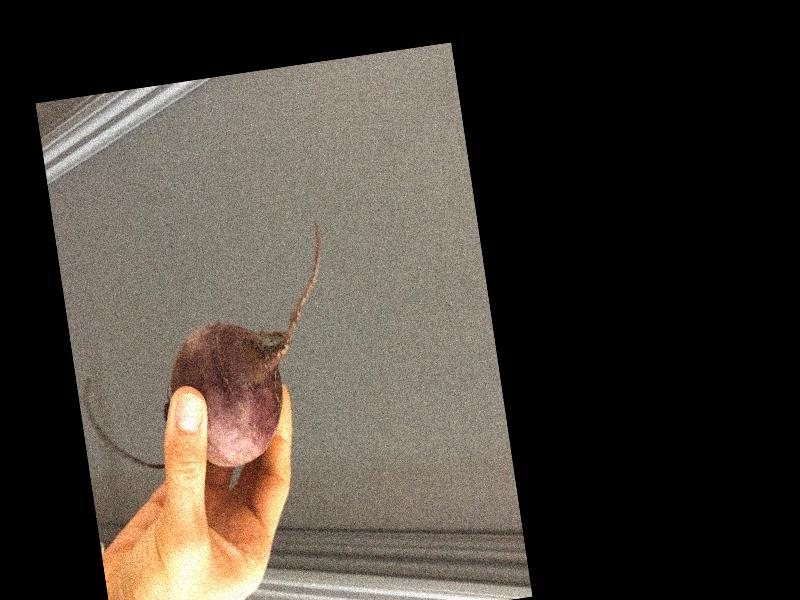Beet: (62, 219, 349, 485)
